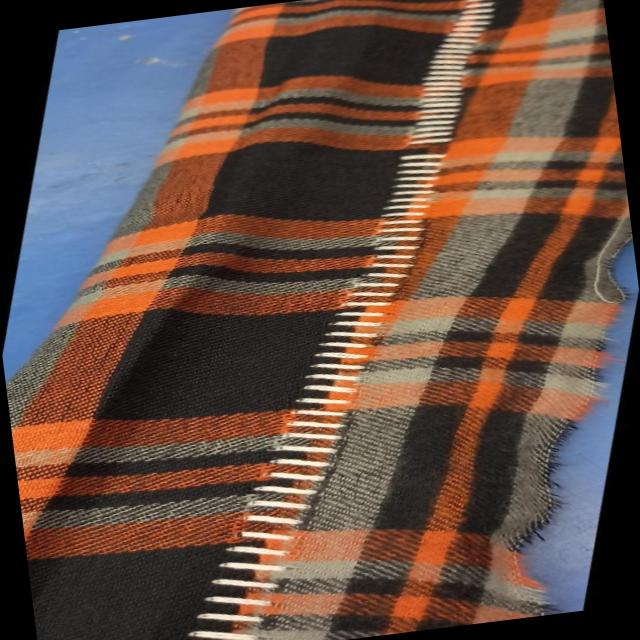gray stitch: (227, 233, 455, 500), (339, 0, 557, 242), (155, 485, 344, 640)
